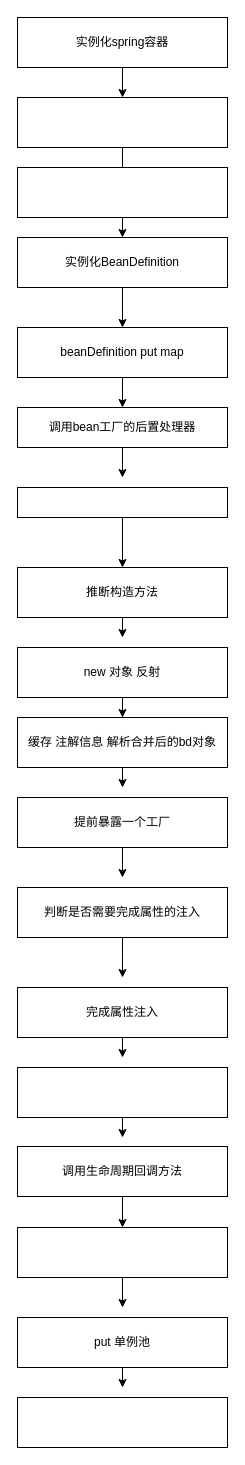
Image size: 245x1465. Some labels were removed from this diagram. Here are the shapes that lost their labels. From the top down, the centre of each, then its label:
pixel 122 122: 扫描类
pixel 122 192: 解析这个类
pixel 122 502: 验证
pixel 122 1092: 回调Aware接口
pixel 122 1252: 完成代理 AOP
pixel 122 1422: 销毁对象
